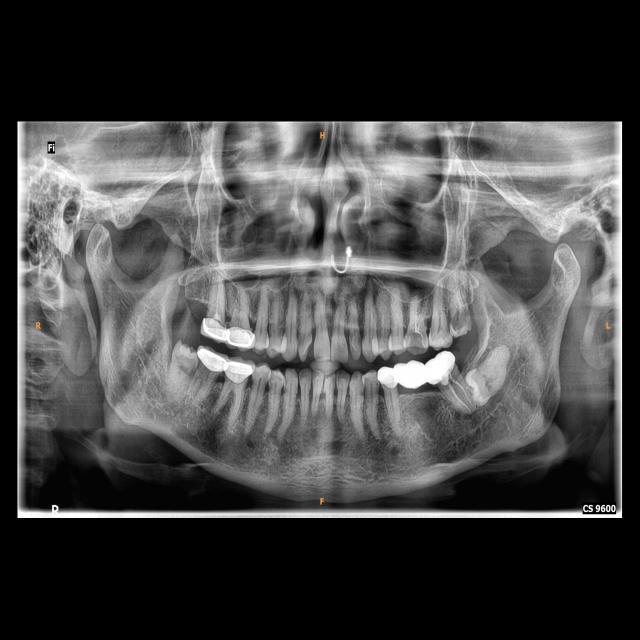dentin-curugu: (448, 308, 472, 332), (407, 329, 427, 352)
kanal-tedavisi: (441, 378, 477, 414), (209, 284, 224, 323)
kaplama: (424, 350, 460, 389), (195, 345, 231, 374), (198, 316, 228, 341), (222, 360, 254, 382), (228, 325, 255, 349), (378, 362, 396, 392)
kopru: (389, 359, 442, 395)
